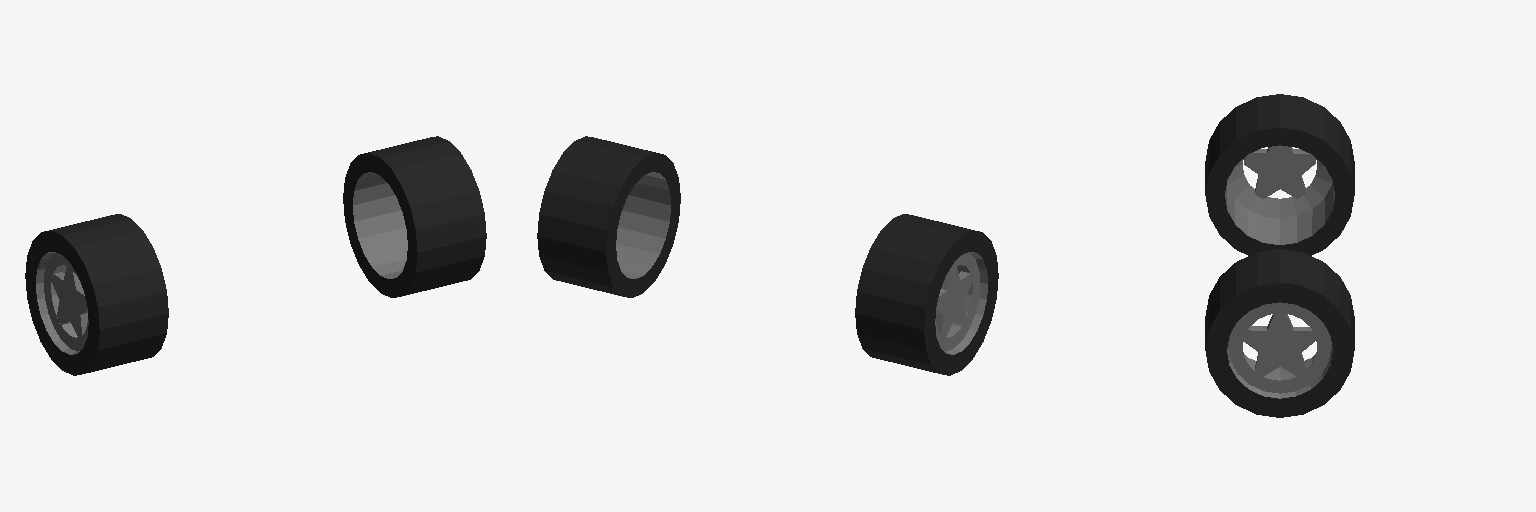
The picture shows the model from 3 angles: view 1: azimuth 30°, elevation 25°; view 2: azimuth 150°, elevation 25°; view 3: azimuth 270°, elevation 25°; orthographic projection.
Parts seen in each view (by area): view 1: F40tire_rear, F40tire_rear_chrom; view 2: F40tire_rear, F40tire_rear_chrom; view 3: F40tire_rear, F40tire_rear_chrom.
Boxes of the visible parts, <box> form: F40tire_rear: <box>25,136,486,375</box>; F40tire_rear_chrom: <box>36,172,407,354</box>; F40tire_rear: <box>537,136,998,375</box>; F40tire_rear_chrom: <box>616,172,987,354</box>; F40tire_rear: <box>1205,94,1354,417</box>; F40tire_rear_chrom: <box>1225,145,1334,398</box>.
Bounding box in the file's own units: 5.19 × 1.73 × 1.73.
2 materials, 2 textured.